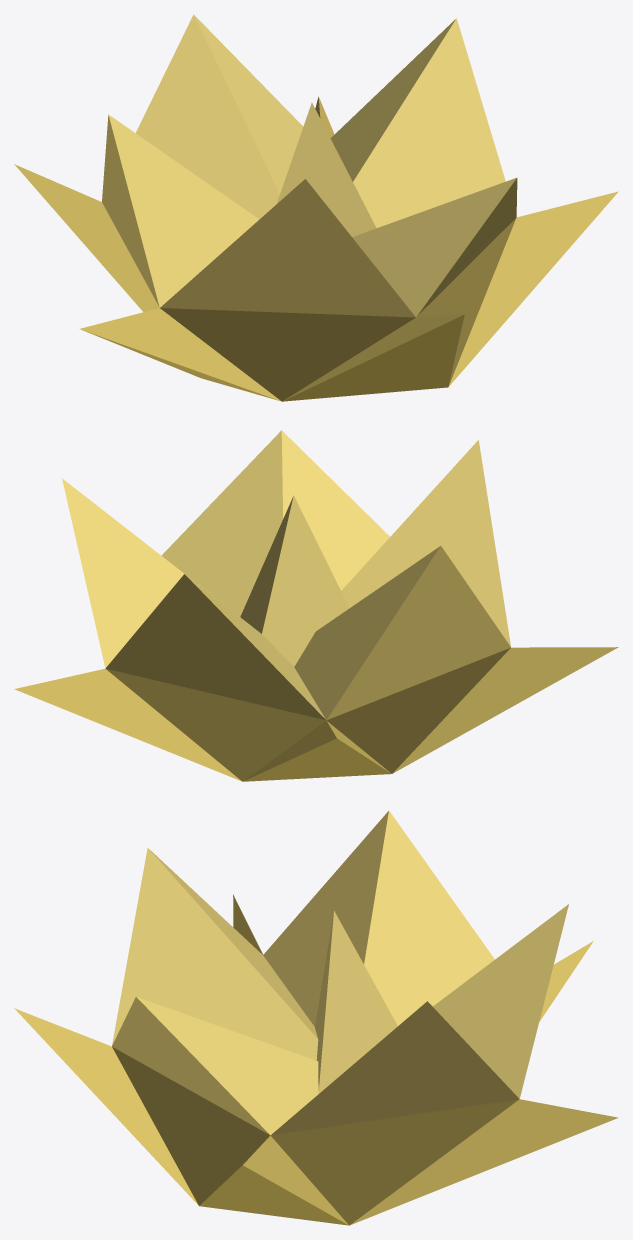
Rendered from BushAutumn5_Alt3.fbx.
3 renders of one model, top to bottom at view 1: azimuth 30°, elevation 25°; view 2: azimuth 150°, elevation 25°; view 3: azimuth 270°, elevation 25°, orthographic. The views are drawn at different scales.
Visible parts, largest first — view 1: BushAutumn5_Alt3; view 2: BushAutumn5_Alt3; view 3: BushAutumn5_Alt3.
Part boxes in pixels (left/top/right/bottom): BushAutumn5_Alt3: left=14, top=14, right=618, bottom=401; BushAutumn5_Alt3: left=14, top=430, right=618, bottom=781; BushAutumn5_Alt3: left=14, top=811, right=618, bottom=1225.
Size of the model in its own units: 0.7751 by 0.3647 by 0.728.
